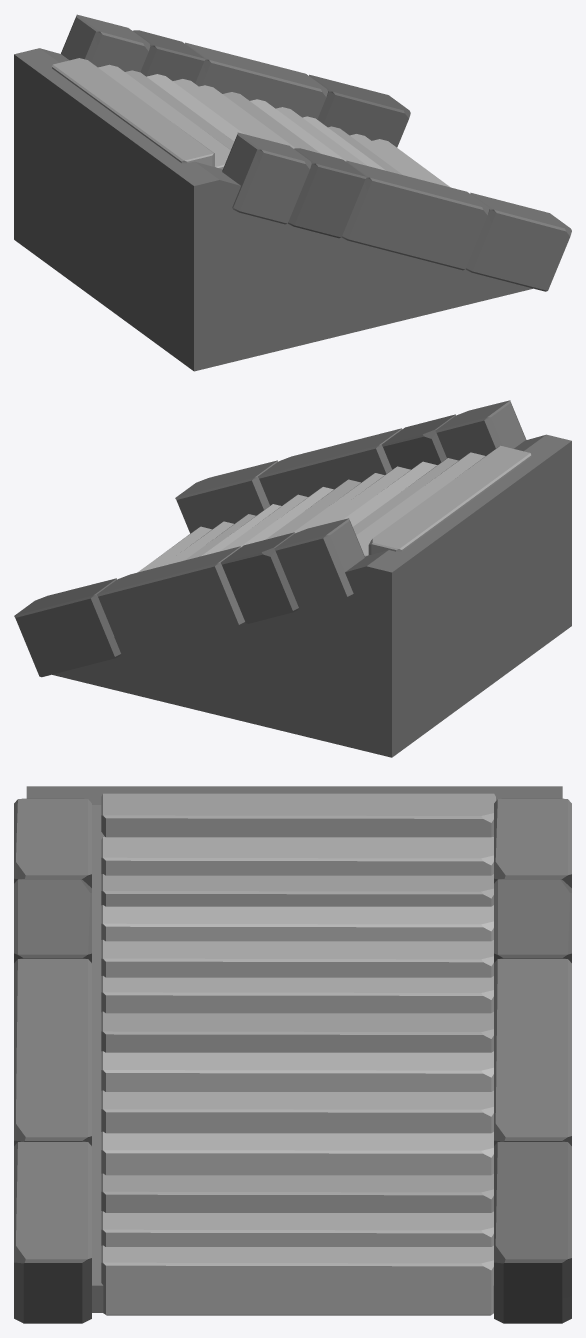
Rendered from louti0.fbx.
The picture shows the model from 3 angles, top to bottom: view 1: azimuth 30°, elevation 25°; view 2: azimuth 150°, elevation 25°; view 3: azimuth 270°, elevation 25°; orthographic projection. The views are drawn at different scales.
Visible parts, largest first — view 1: polySurface143; view 2: polySurface143; view 3: polySurface143.
Part boxes in pixels (x1,y1,x2,y2): polySurface143: [14, 14, 571, 371]; polySurface143: [14, 400, 571, 757]; polySurface143: [14, 786, 571, 1323].
Size of the model in its own units: 848 by 456 by 730.
